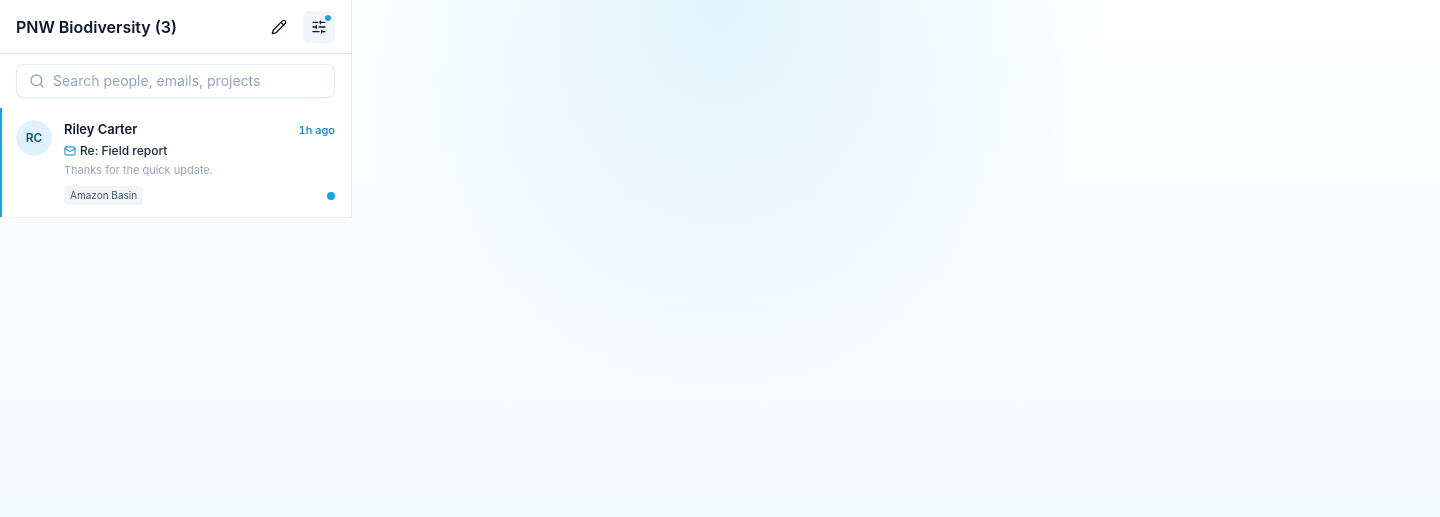
Test: Inbox list shell › joins the selected project and state filter with a middot
Click the button named "Filters".
click(319, 26)  # box [303, 10, 335, 42]
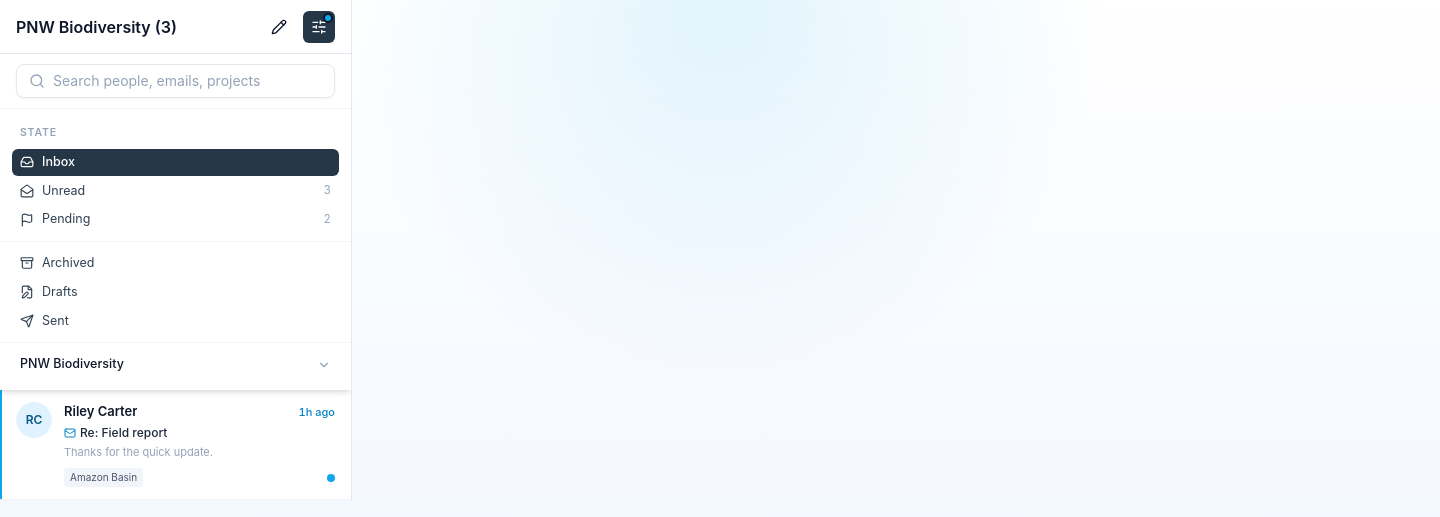
Click the button "Unread 3".
click(64, 190)  # box [12, 178, 339, 204]
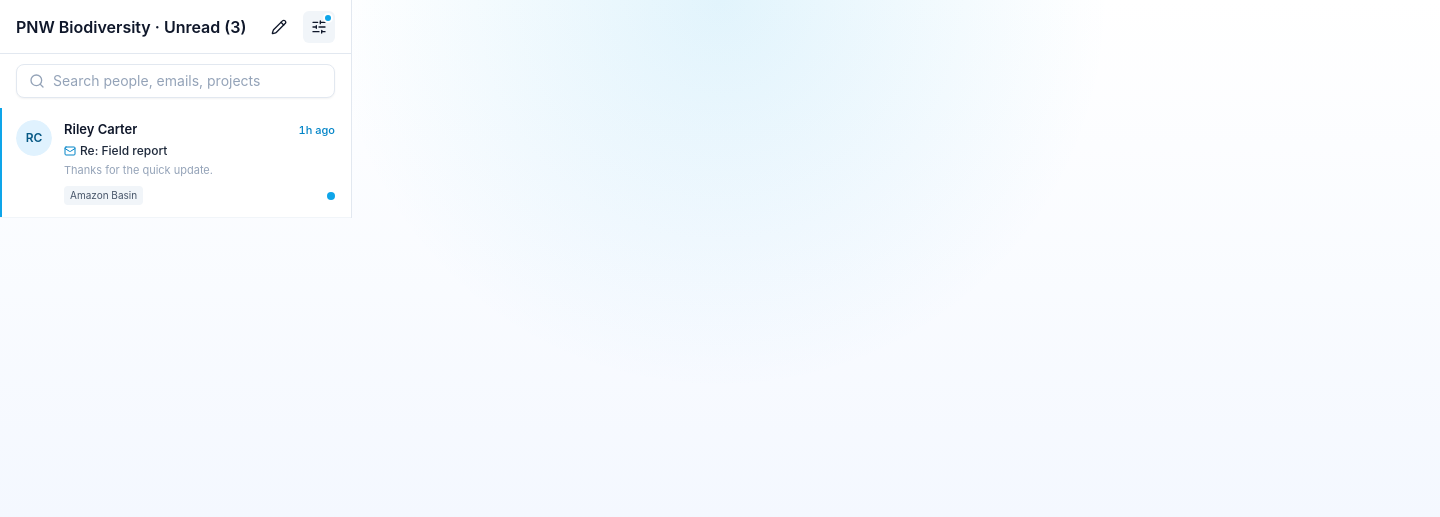
Now the heading "PNW Biodiversity · Unread (3)" is shown, box [16, 14, 255, 38]
